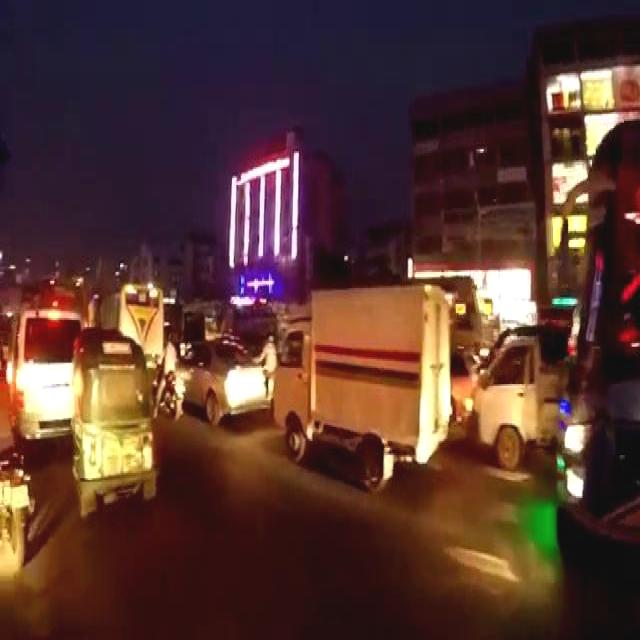TRUCK: (270, 280, 454, 510)
